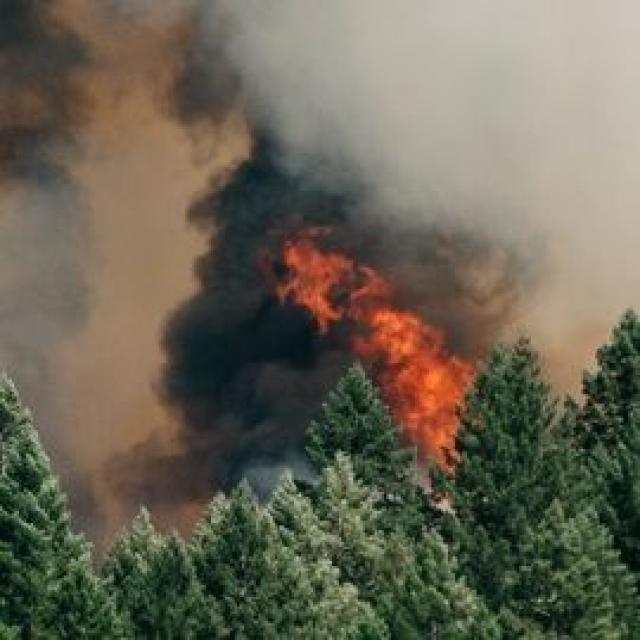Fire: (304, 268, 506, 466)
Smoke: (137, 75, 569, 490)
